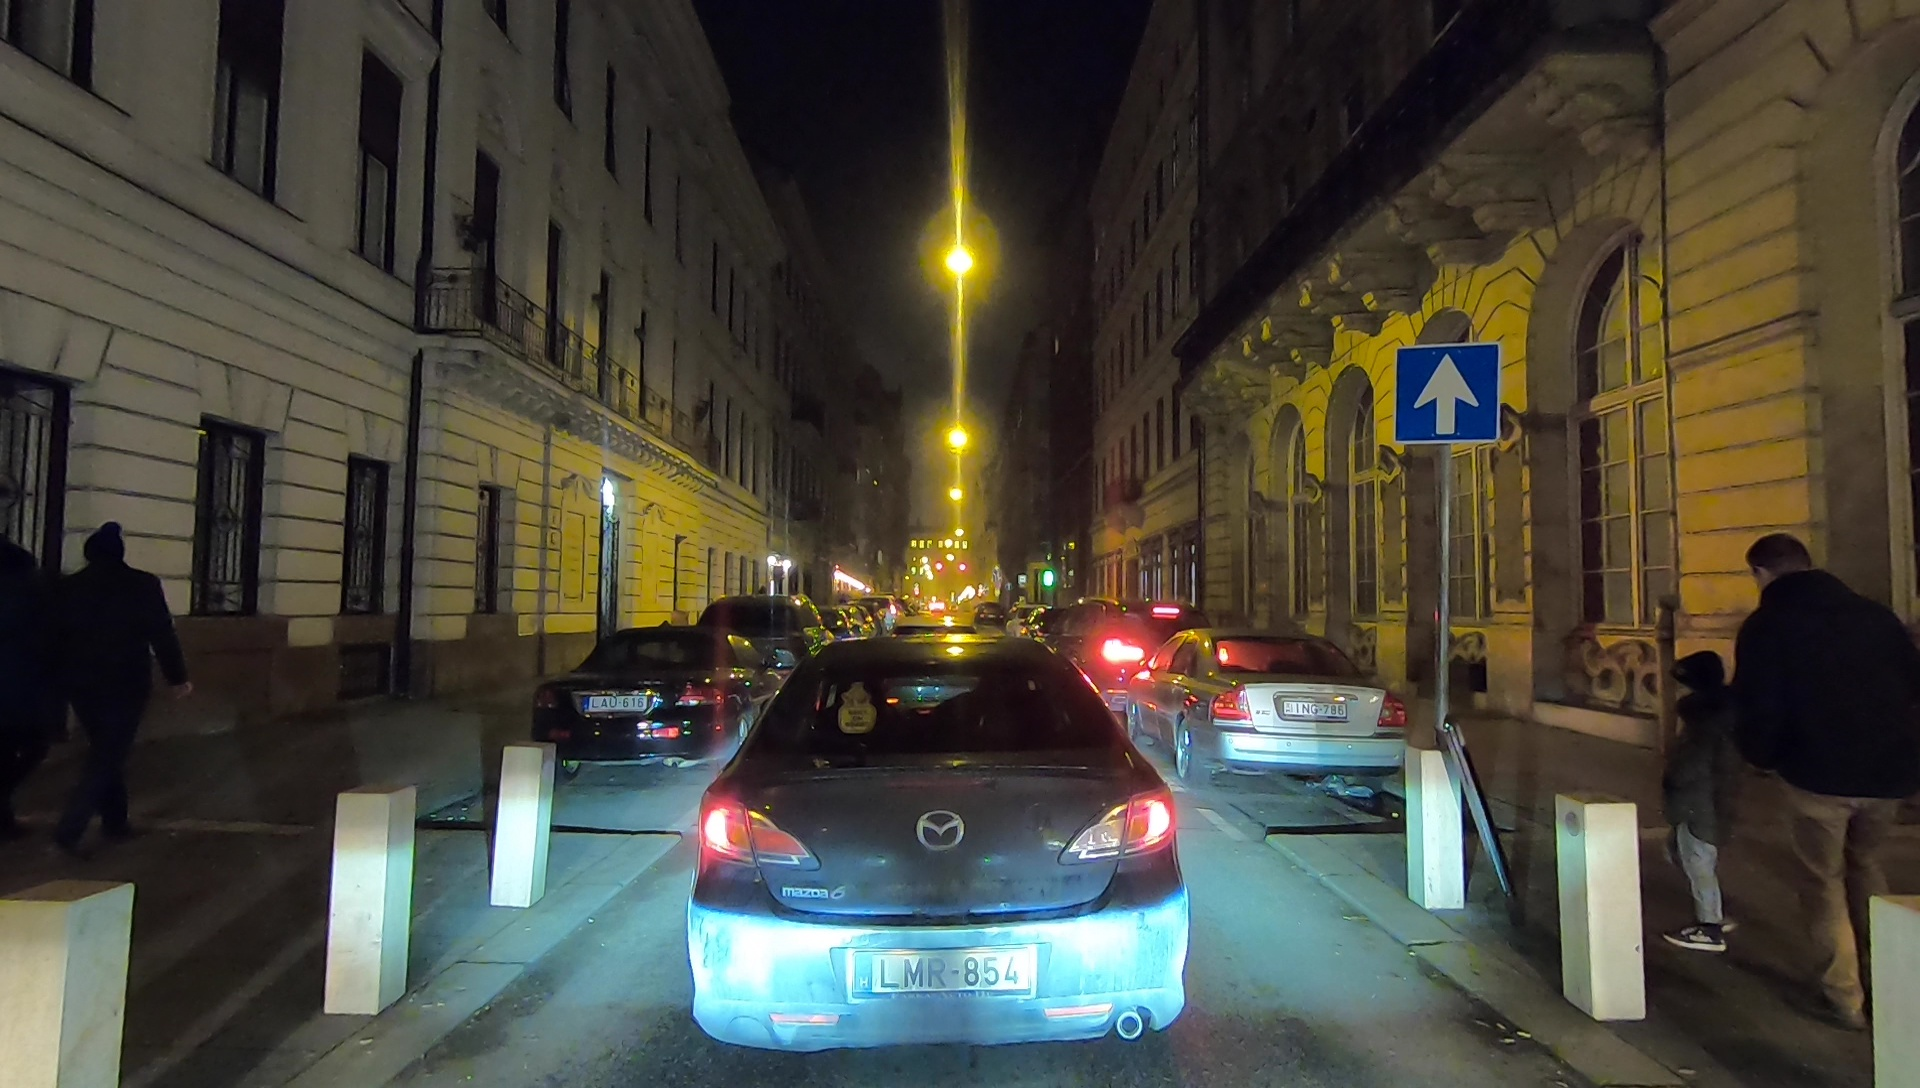person: (1736, 539, 1914, 1024), (62, 524, 191, 839), (1636, 639, 1751, 963), (1, 511, 36, 810)
